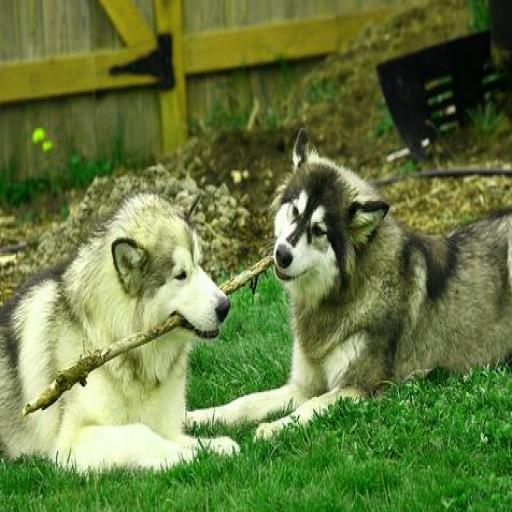dog_face: (107, 194, 239, 362), (261, 131, 387, 292)
